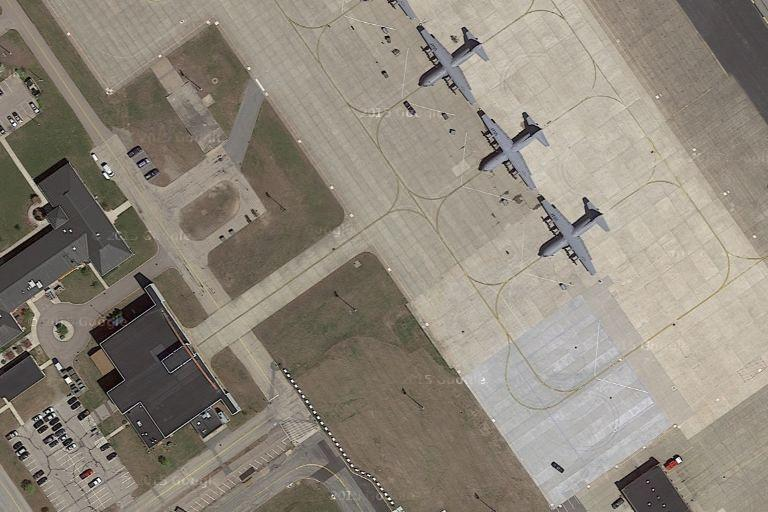C-130: (469, 104, 553, 194), (535, 193, 615, 279), (414, 24, 489, 108)
